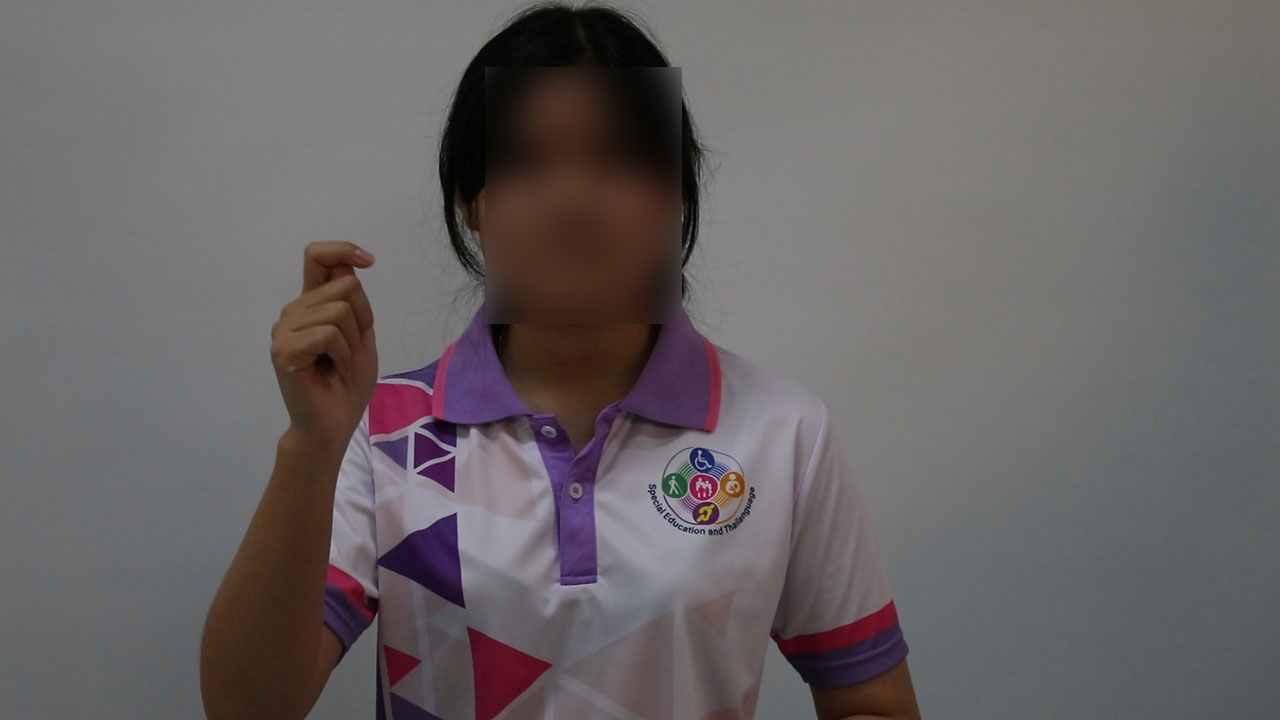or: (260, 234, 392, 463)
